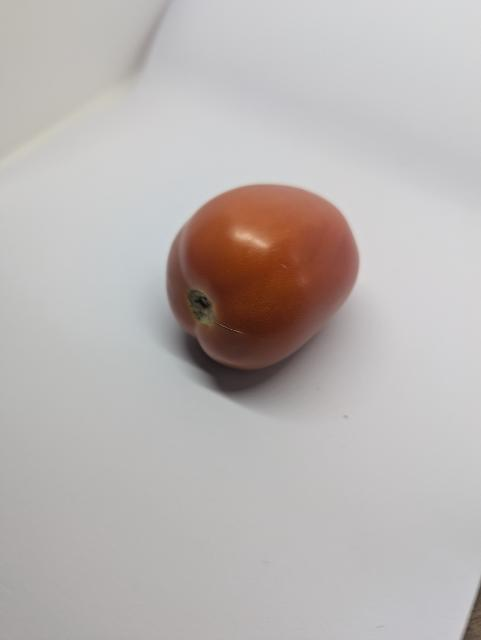red: (141, 160, 383, 402)
